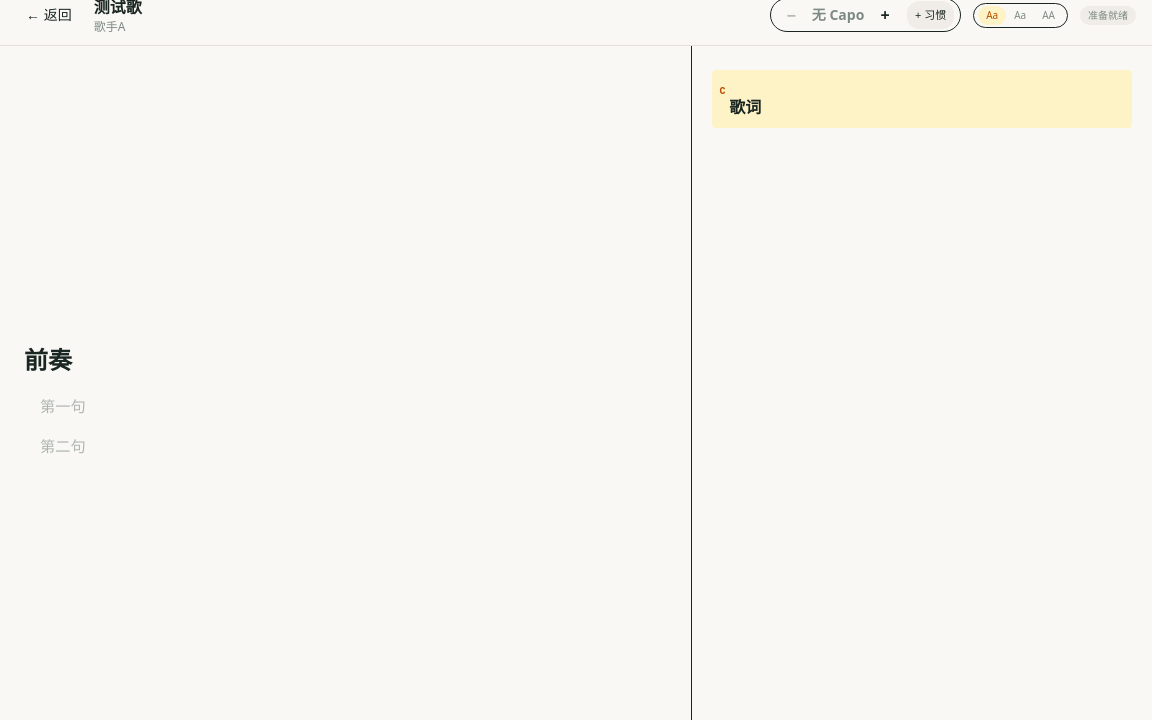
PlayView - R9.3 Capo 标识 › 点击 + 按钮 → Capo 升 1 → 显示「Capo 1」+ 实际 Key=C#
(page scrolled)
Click the button with test id "play-view-capo-up".
click(885, 15)  # box [871,1,899,29]
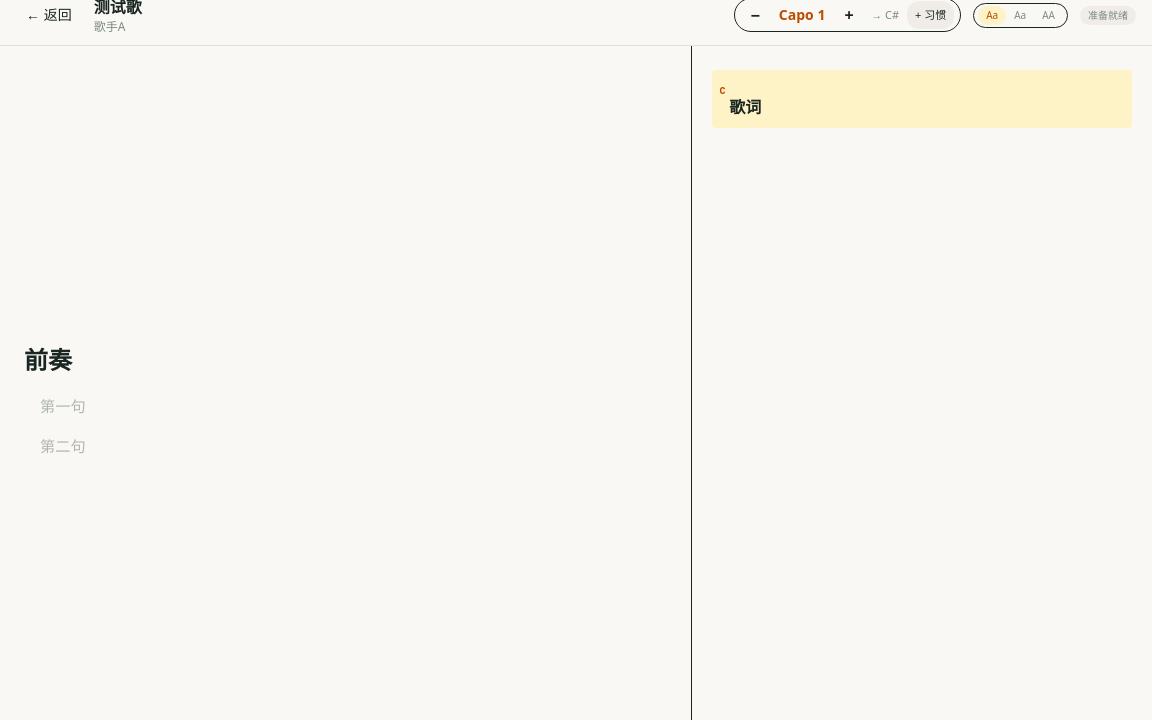
Result: the text with test id "play-view-capo-value" reads "Capo 1" at [779,5,825,24]
Result: the text with test id "play-view-actual-key" reads "→ C#" at [871,7,899,23]
